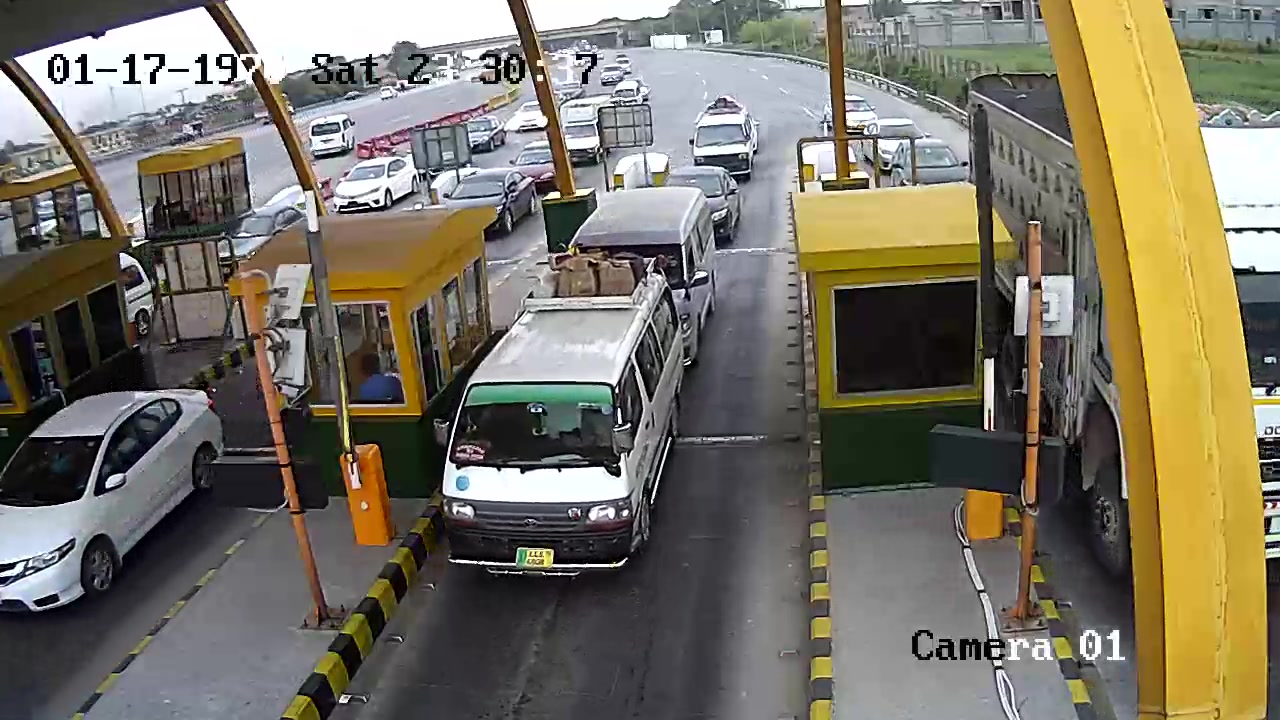F2: (441, 258, 695, 592)
